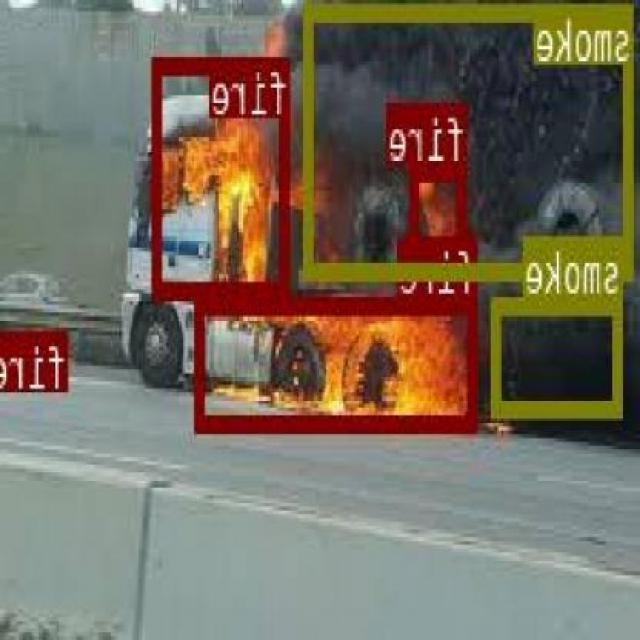Fire: (198, 296, 479, 429), (154, 54, 291, 296), (414, 160, 468, 258), (21, 328, 68, 364)
Smoke: (306, 3, 636, 277), (493, 297, 624, 412)
